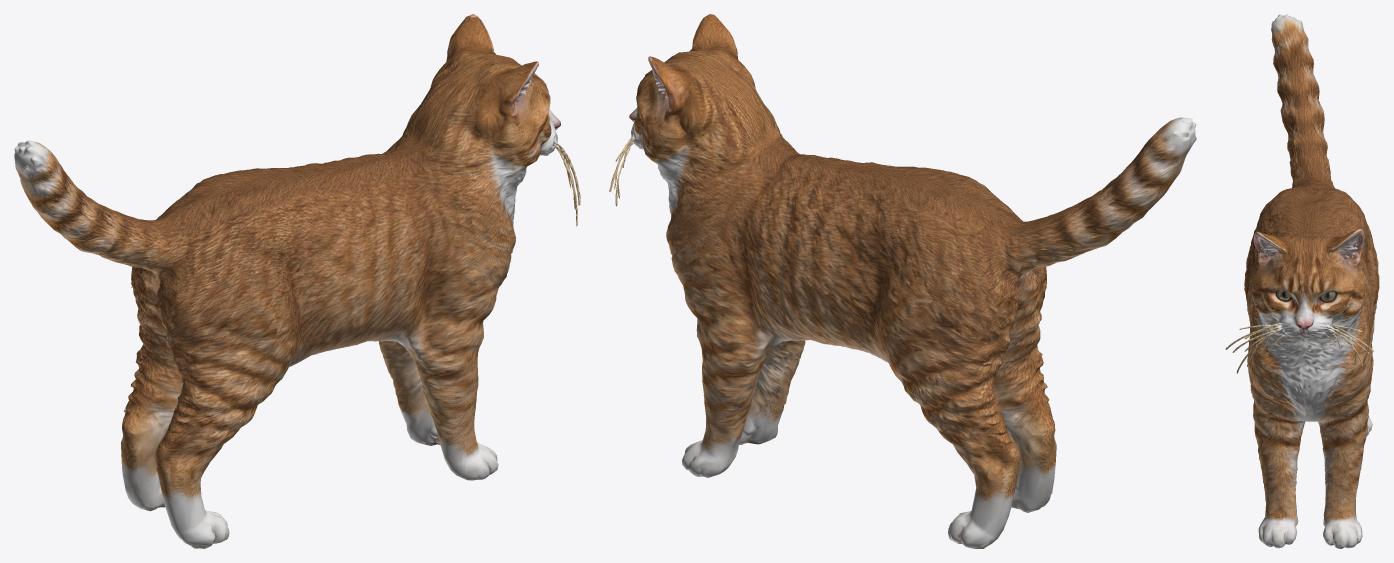
File: LASERTATER.glb
3 views of the same model, side by side, from view 1: azimuth 30°, elevation 25°; view 2: azimuth 150°, elevation 25°; view 3: azimuth 270°, elevation 25° (orthographic). The views are drawn at different scales.
Parts seen in each view (by area): view 1: tripo_node_6e248fd5-f9af-43b9-9211-2b25bf808153; view 2: tripo_node_6e248fd5-f9af-43b9-9211-2b25bf808153; view 3: tripo_node_6e248fd5-f9af-43b9-9211-2b25bf808153.
Part boxes in pixels (<box>): tripo_node_6e248fd5-f9af-43b9-9211-2b25bf808153: <box>14,14,580,548</box>; tripo_node_6e248fd5-f9af-43b9-9211-2b25bf808153: <box>609,14,1196,548</box>; tripo_node_6e248fd5-f9af-43b9-9211-2b25bf808153: <box>1225,14,1379,548</box>.
Size of the model in its own units: 1.32 by 0.9988 by 0.3934.
Materials: 1 (1 with a texture image).
